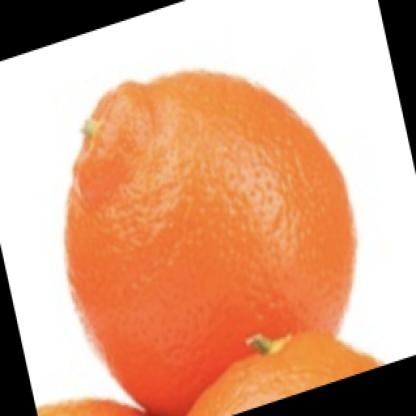orange: (57, 53, 358, 406)
